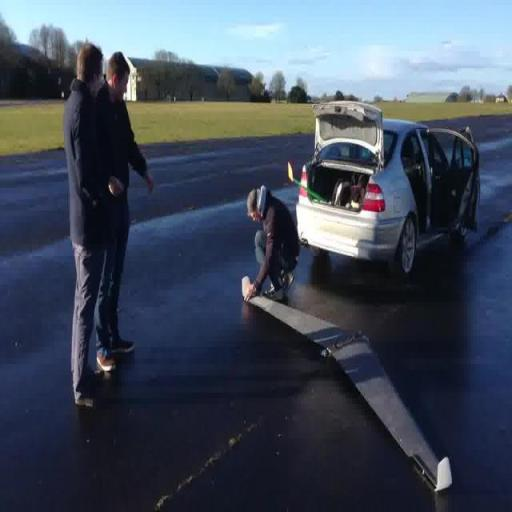uav: (238, 271, 462, 499)
